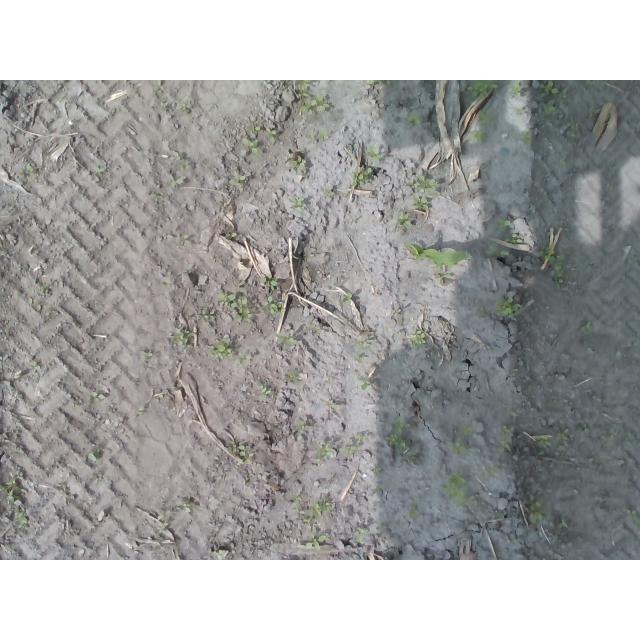Maize: (406, 242, 466, 266)
Weeds: (385, 414, 420, 464), (438, 471, 479, 510), (1, 477, 32, 527), (206, 338, 250, 368), (288, 492, 332, 522), (216, 292, 256, 323), (407, 173, 439, 211), (296, 80, 332, 113), (539, 80, 570, 117), (465, 109, 497, 143), (527, 429, 571, 452), (480, 297, 523, 320), (445, 425, 472, 456), (341, 430, 365, 458), (228, 442, 252, 467), (311, 442, 334, 466), (468, 80, 501, 96), (349, 165, 373, 187), (496, 425, 513, 456), (549, 268, 574, 288), (270, 331, 298, 348), (392, 212, 416, 231), (483, 243, 511, 259), (304, 534, 329, 551), (564, 119, 581, 142), (407, 329, 428, 347), (288, 155, 309, 173), (256, 382, 273, 403), (577, 321, 595, 340), (510, 80, 529, 98), (263, 295, 282, 313), (364, 144, 384, 161), (404, 502, 420, 523), (528, 503, 542, 526), (406, 113, 427, 128), (598, 432, 616, 449), (504, 231, 525, 245), (288, 196, 305, 213), (168, 173, 186, 189), (173, 500, 192, 515), (258, 275, 278, 289), (623, 508, 640, 524), (516, 129, 533, 145), (241, 138, 258, 154), (230, 173, 247, 189), (200, 308, 218, 323), (174, 233, 192, 248), (174, 330, 190, 346), (264, 126, 278, 143), (367, 80, 394, 88), (356, 527, 368, 545), (484, 464, 499, 478), (207, 549, 226, 560), (31, 285, 49, 296), (495, 217, 509, 231), (587, 106, 601, 120), (576, 423, 593, 434), (91, 390, 105, 403), (177, 160, 191, 173), (153, 80, 166, 94), (157, 510, 167, 528), (503, 408, 517, 420), (359, 378, 371, 391), (356, 335, 369, 347), (95, 163, 109, 174), (87, 452, 101, 463), (140, 349, 155, 359), (510, 367, 521, 378), (341, 292, 351, 304), (325, 186, 335, 198), (30, 360, 42, 370), (248, 124, 261, 133), (515, 106, 526, 116), (557, 520, 567, 531), (583, 80, 596, 88), (297, 421, 307, 431), (224, 232, 236, 240), (136, 406, 144, 416), (181, 105, 188, 112)
